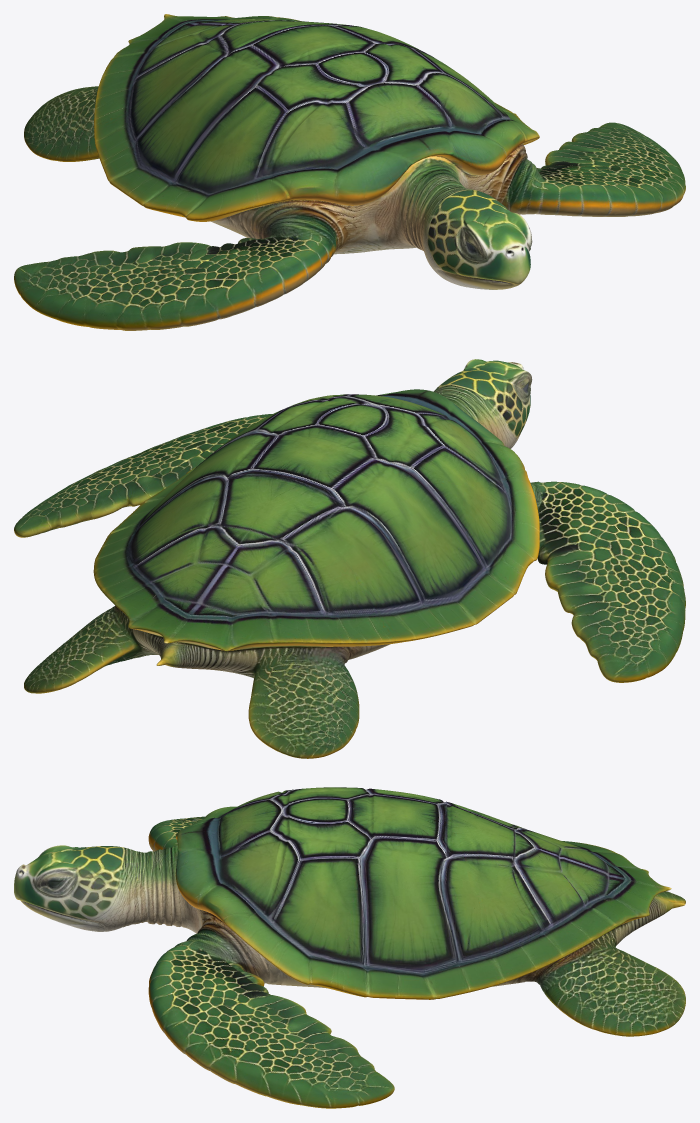
Rendered from sea-turtle.glb.
3 renders of one model, top to bottom at view 1: azimuth 30°, elevation 25°; view 2: azimuth 150°, elevation 25°; view 3: azimuth 270°, elevation 25°, orthographic. The views are drawn at different scales.
Size of the model in its own units: 1.9 by 0.4943 by 1.89.
1 material, 1 textured.
